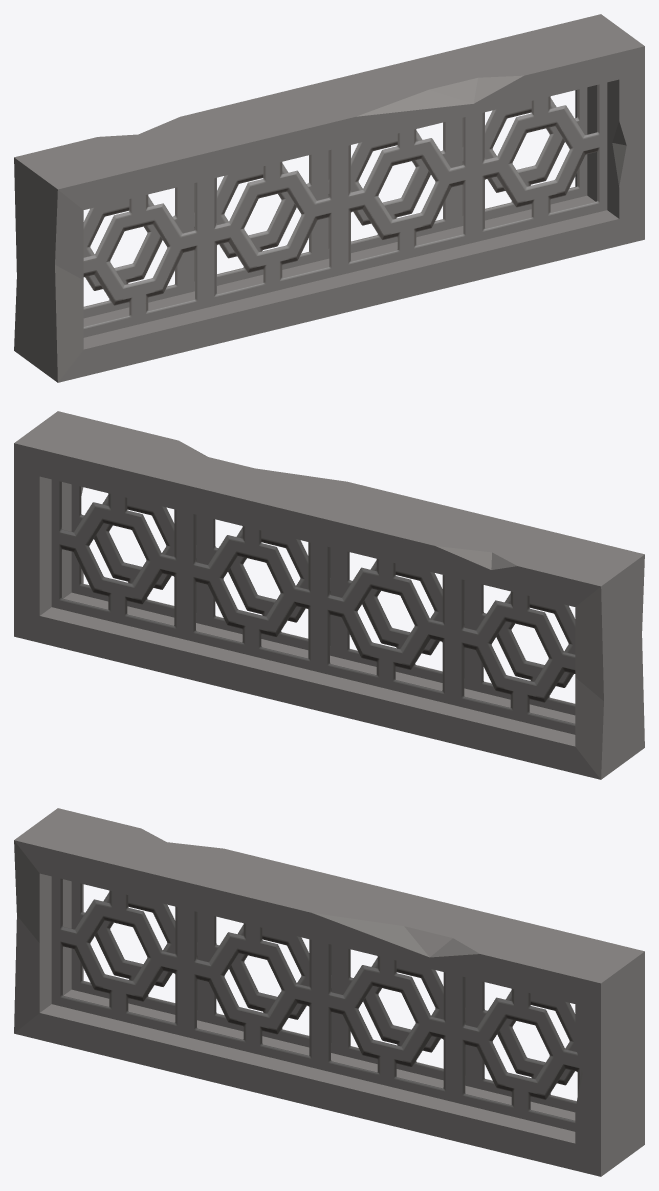
Rendered from SM_Bld_Decorative_Block_02.fbx.
3 renders of one model, top to bottom at view 1: azimuth 30°, elevation 25°; view 2: azimuth 150°, elevation 25°; view 3: azimuth 330°, elevation 25°, orthographic.
Parts seen in each view (by area): view 1: SM_Bld_Decorative_Block_02; view 2: SM_Bld_Decorative_Block_02; view 3: SM_Bld_Decorative_Block_02.
Part boxes in pixels (box(x1,y1,x2,y2)): SM_Bld_Decorative_Block_02: box(14, 14, 644, 382); SM_Bld_Decorative_Block_02: box(14, 411, 644, 779); SM_Bld_Decorative_Block_02: box(14, 808, 644, 1176).
Size of the model in its own units: 182 by 57.28 by 23.56.
